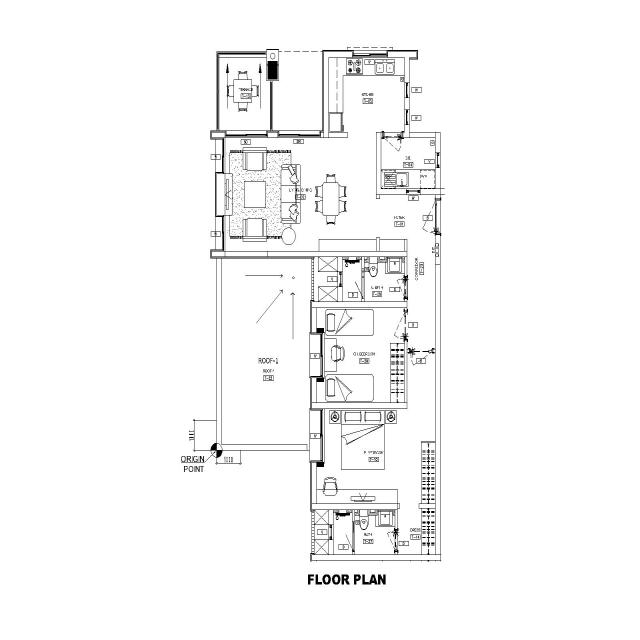Column: (266, 60, 279, 80)
Door: (435, 198, 441, 236), (382, 131, 404, 139), (408, 348, 434, 354), (404, 309, 408, 342), (361, 268, 365, 300), (404, 275, 408, 301), (394, 528, 398, 553), (352, 521, 355, 553)
Sliding Door: (225, 130, 268, 138)
Ventilator: (336, 270, 344, 288), (328, 524, 334, 542), (435, 152, 441, 168)
Window: (352, 50, 388, 59), (320, 408, 325, 462), (320, 332, 325, 378), (221, 214, 226, 252), (221, 136, 226, 174), (406, 188, 420, 196), (404, 82, 410, 98), (404, 109, 410, 125)
